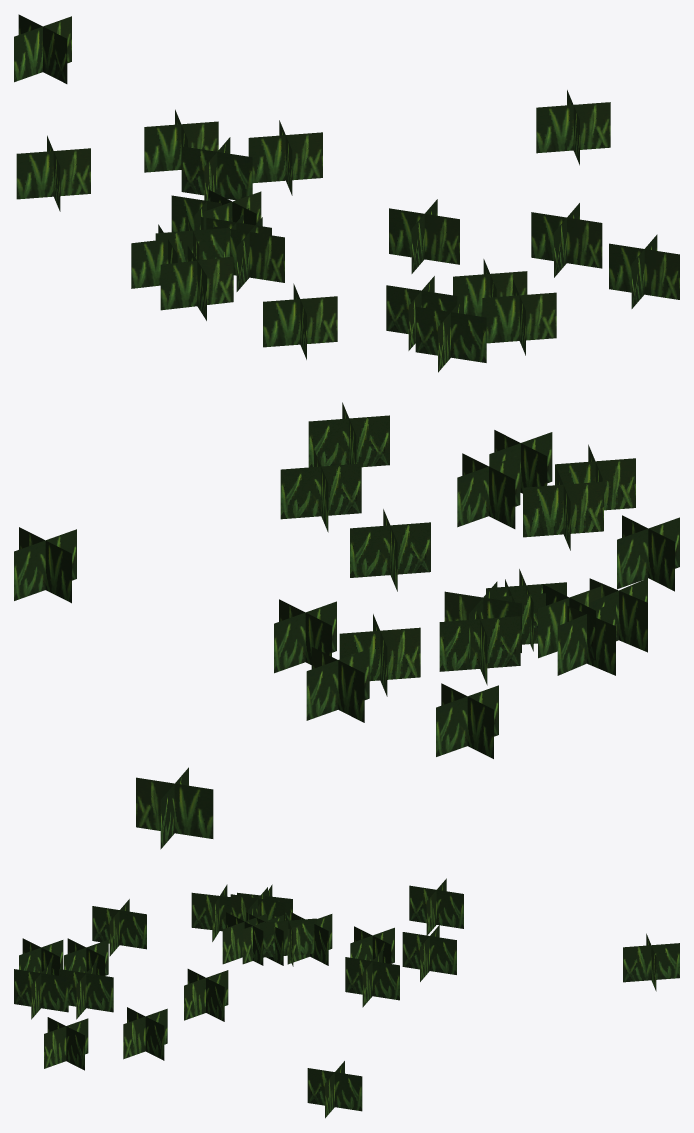
File: grass.DAE
3 renders of one model, top to bottom at view 1: azimuth 30°, elevation 25°; view 2: azimuth 150°, elevation 25°; view 3: azimuth 270°, elevation 25°, orthographic. The views are drawn at different scales.
Parts seen in each view (by area): view 1: Plane020; view 2: Plane020; view 3: Plane020.
Part boxes in pixels (x1,y1,x2,y2): Plane020: (14,14,679,372); Plane020: (14,402,679,849); Plane020: (14,878,679,1118).
Size of the model in its own units: 11.81 by 1.35 by 17.21.
